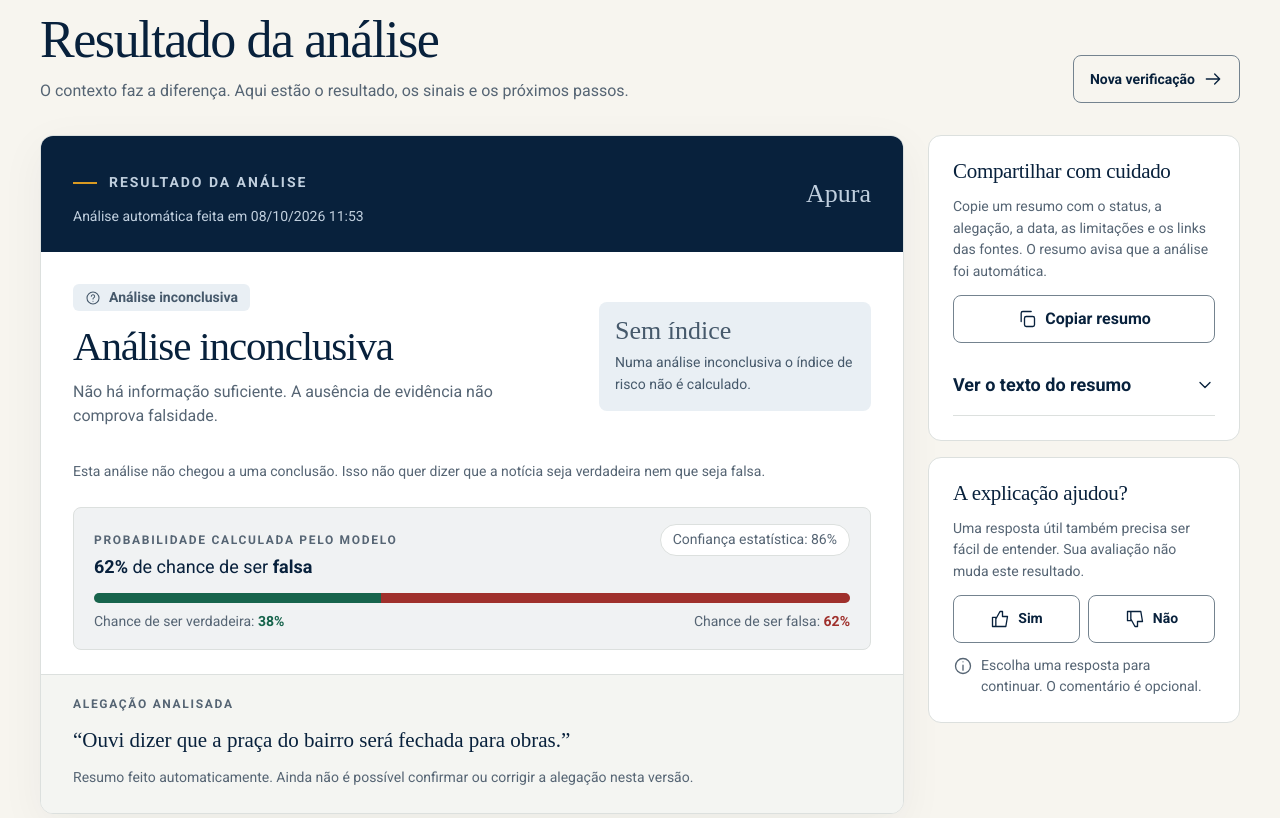
Scenario: RF18: resumo copiável › análise inconclusiva: o resumo não vira conclusão
The image size is (1280, 818).
Step 1. Click the heading "Ver o texto do resumo" → [1084, 385], box [953,374,1215,395]
(page scrolled)
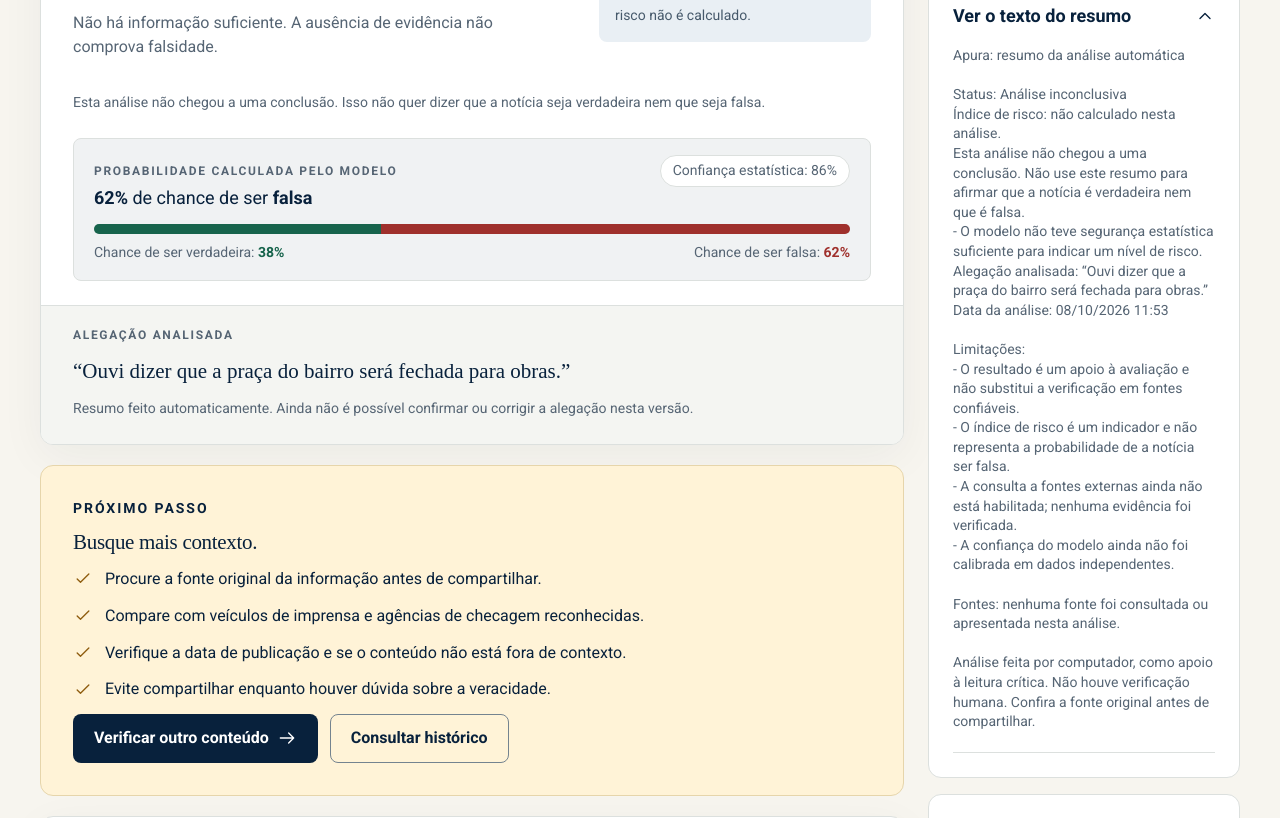
Check: the text with class "share-text" shows "Status: Análise inconclusiva", box [953,47,1217,729]
Check: the text with class "share-text" shows "Índice de risco: não calculado nesta análise.", box [953,47,1217,729]
Check: the text with class "share-text" shows "Não use este resumo para afirmar que a notícia é verdadeira nem que é falsa.", box [953,47,1217,729]
